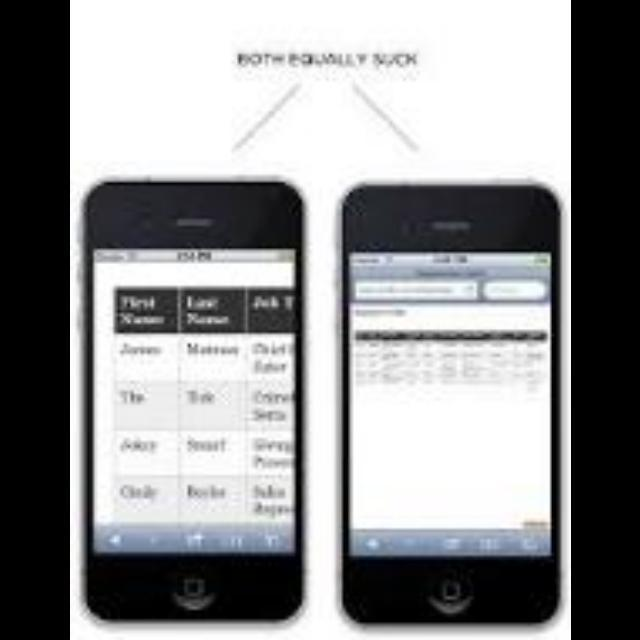phone: (335, 171, 570, 637), (77, 168, 313, 631)
